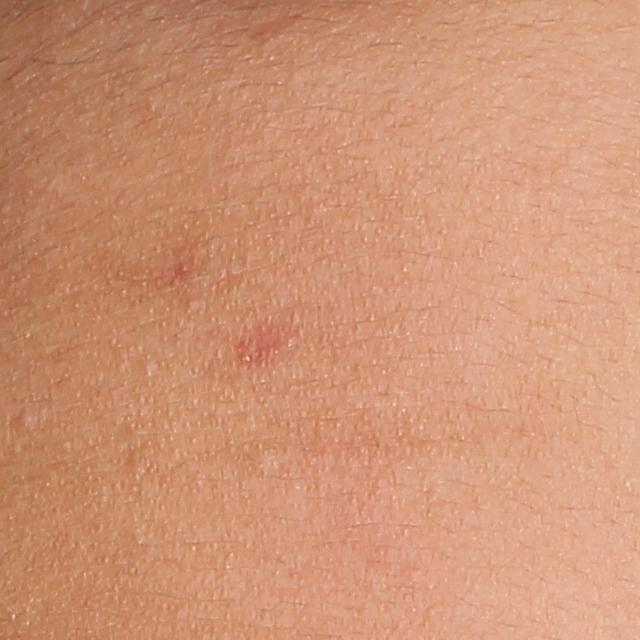comedo: (15, 405, 40, 430), (141, 361, 158, 381)
